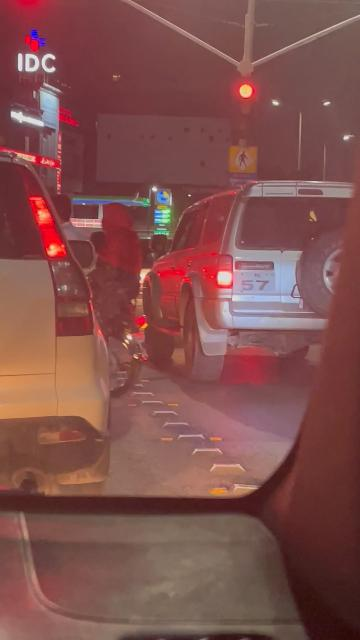plate: (235, 268, 275, 294)
